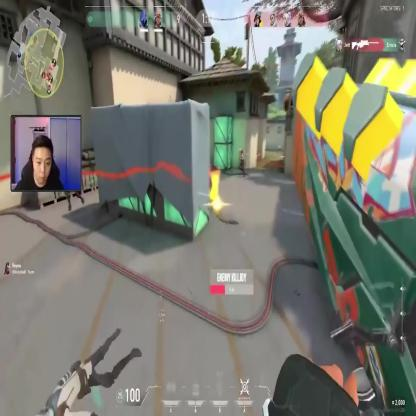enemy: (239, 146, 244, 174)
enemy_head: (240, 148, 243, 153)
